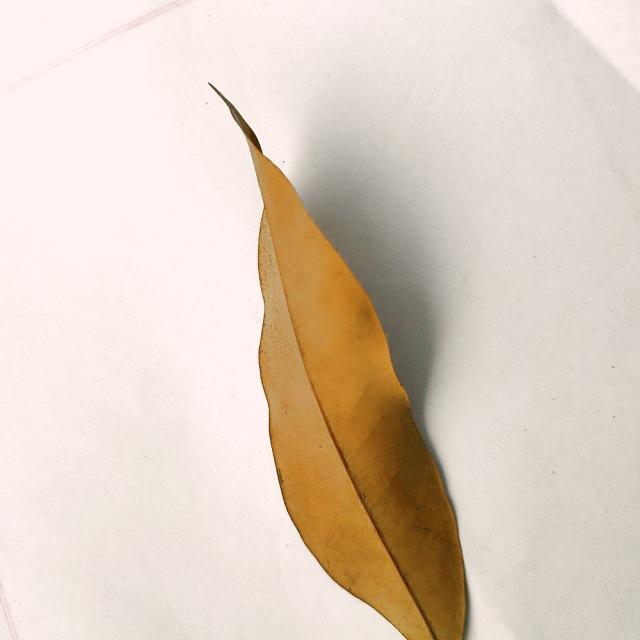Dry_Leaf-Lychee: (233, 110, 470, 639)
